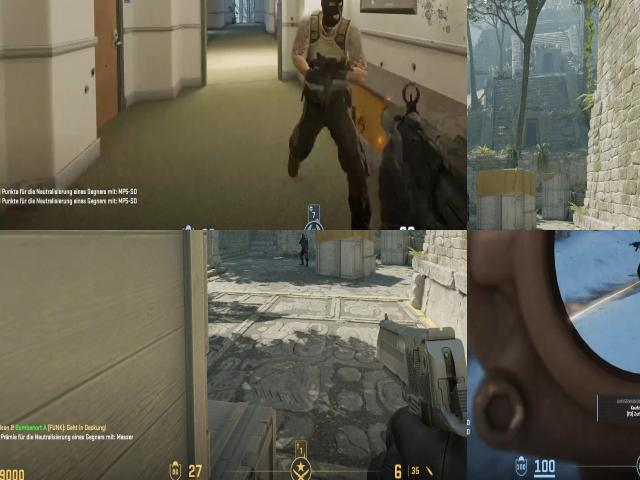CT: (298, 230, 310, 267), (467, 182, 471, 222)
CT-Head: (300, 231, 306, 239)
T: (291, 12, 367, 100), (633, 230, 640, 266)
T-Head: (311, 0, 355, 38)
